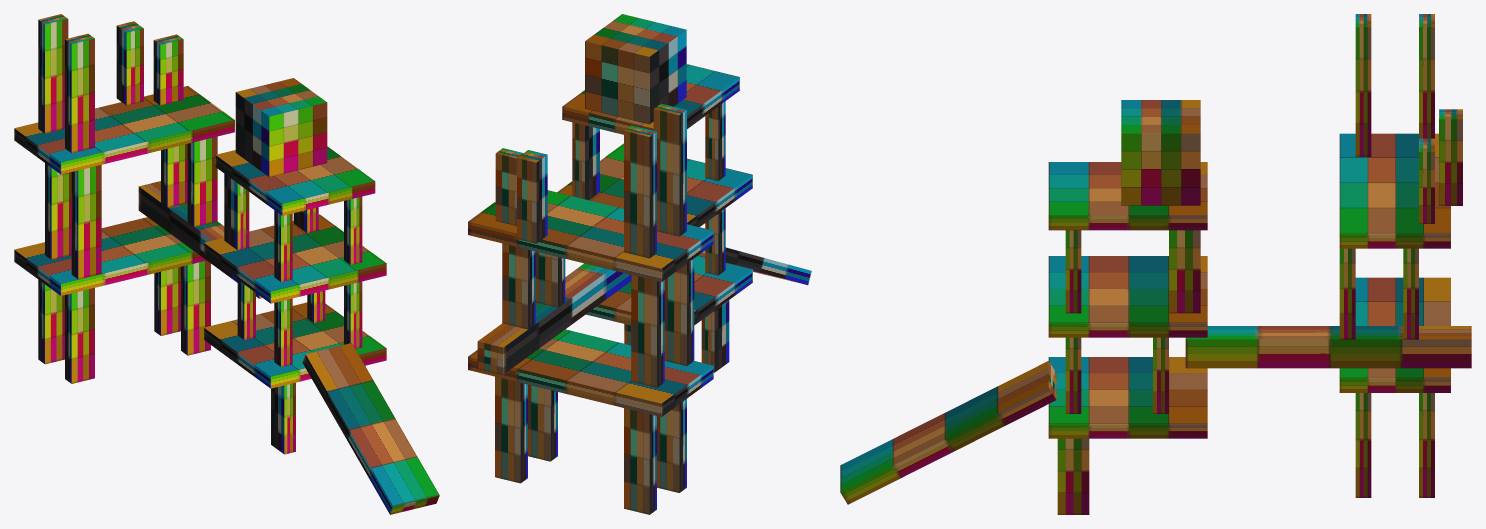
The model's file is M3_Dynamic1Wood_2kg.fbx.
3 renders of one model, left to right at view 1: azimuth 30°, elevation 25°; view 2: azimuth 150°, elevation 25°; view 3: azimuth 270°, elevation 25°, orthographic. The views are drawn at different scales.
Parts seen in each view (by area): view 1: D1Box5, D1Box22, D1Box6, D1Box16, D1Box21, D1Box4, D1Box15, D1Box28, D1Box25, D1Box27, D1Box18, D1Box29 (+17 smaller); view 2: D1Box21, D1Box22, D1Box16, D1Box29, D1Box6, D1Box27, D1Box28, D1Box15, D1Box24, D1Box4, D1Box19, D1Box20 (+12 smaller); view 3: D1Box29, D1Box4, D1Box6, D1Box22, D1Box5, D1Box16, D1Box15, D1Box21, D1Box11, D1Box2, D1Box28, D1Box31 (+9 smaller).
Part boxes in pixels (x1,y1,x2,y2): D1Box5: (302,343,439,514); D1Box22: (14,86,234,174); D1Box6: (204,214,386,303); D1Box16: (235,78,327,177); D1Box21: (14,217,206,295); D1Box4: (204,302,386,388); D1Box15: (215,146,375,215); D1Box28: (65,33,94,153); D1Box25: (71,165,101,279); D1Box27: (38,14,68,133); D1Box18: (65,288,94,383); D1Box29: (138,181,262,298); D1Box21: (468,329,713,416); D1Box22: (468,190,713,281); D1Box16: (585,14,686,124); D1Box29: (477,263,631,374); D1Box6: (557,143,752,226); D1Box27: (624,125,656,258); D1Box28: (653,103,686,236); D1Box15: (562,64,739,134); D1Box24: (631,275,664,387); D1Box4: (586,256,752,325); D1Box19: (624,408,656,514); D1Box20: (495,376,527,483); D1Box29: (1185,326,1471,368); D1Box4: (1048,357,1207,438); D1Box6: (1048,256,1207,337); D1Box22: (1339,133,1450,248); D1Box5: (840,360,1056,504); D1Box16: (1121,100,1200,205); D1Box15: (1048,162,1207,230); D1Box21: (1339,277,1450,392); D1Box11: (1169,230,1200,313); D1Box2: (1057,438,1089,514); D1Box28: (1355,14,1371,156); D1Box31: (1439,109,1462,205).
Size of what is drawn, in the model's own units: 17.52 by 28 by 39.72.
